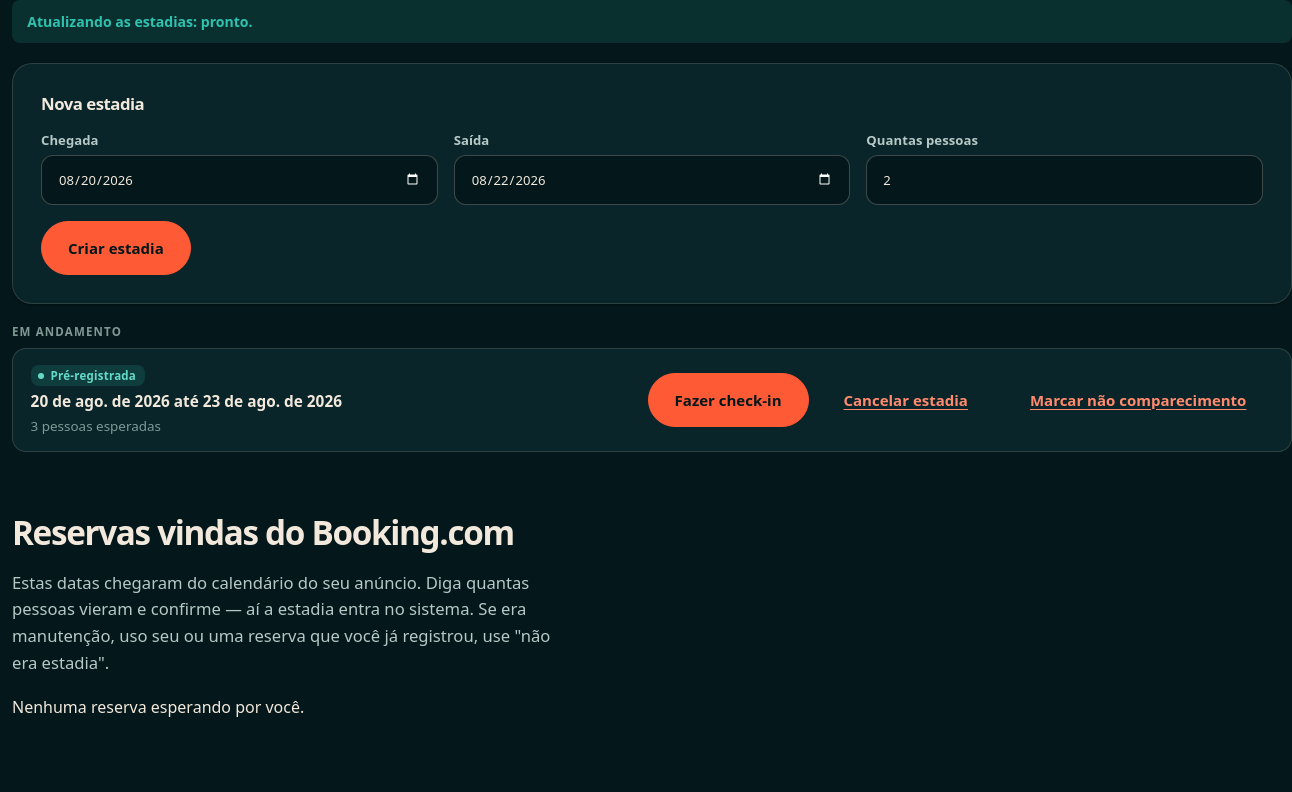
Scenario: área da hospedagem › explica em português quando a versão está desatualizada
(page scrolled)
Click the button "Fazer check-in" at (728, 400), box [648,373,808,427]
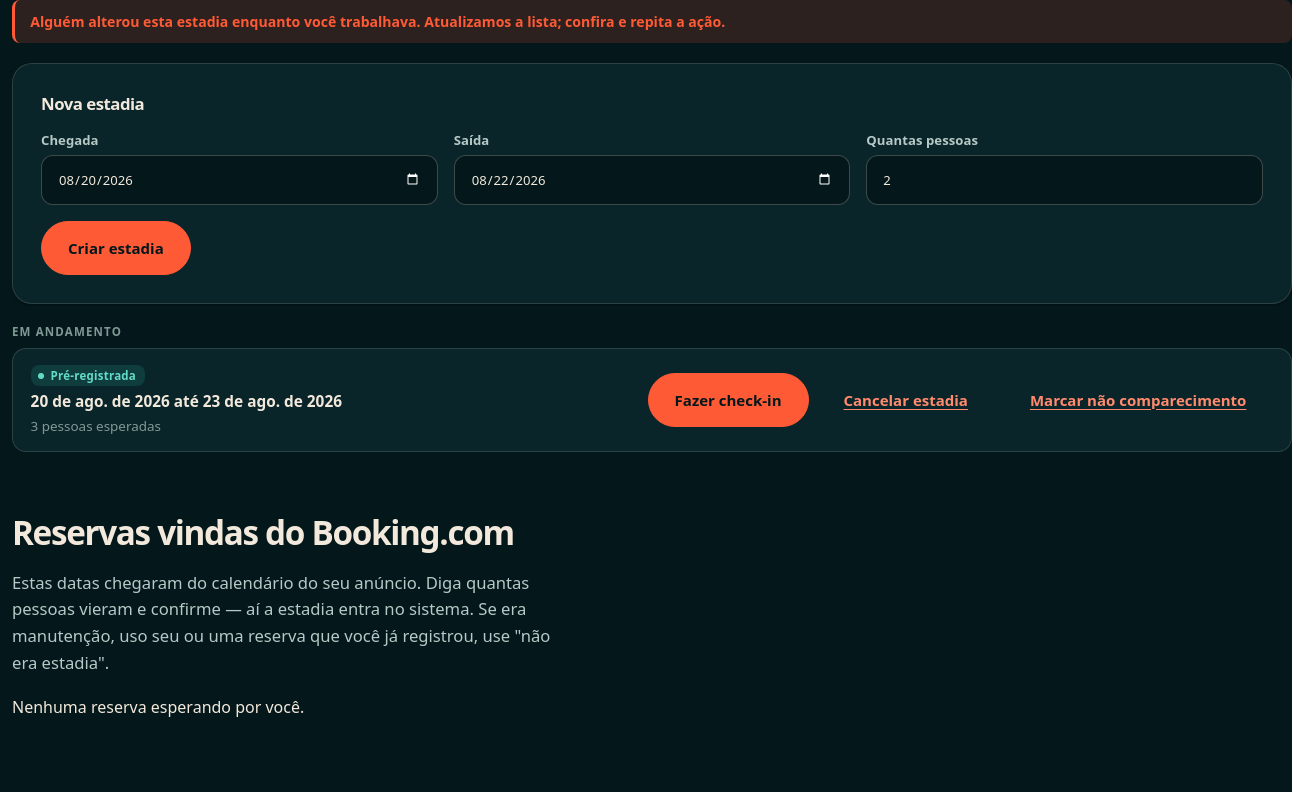
Result: the text "Alguém alterou esta estadia" is shown at [30,12,725,31]
